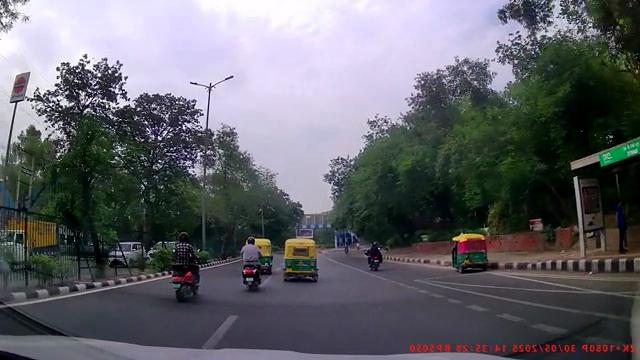motorcycle_with_helmet: (170, 231, 202, 302), (241, 235, 262, 291), (367, 240, 383, 272)
